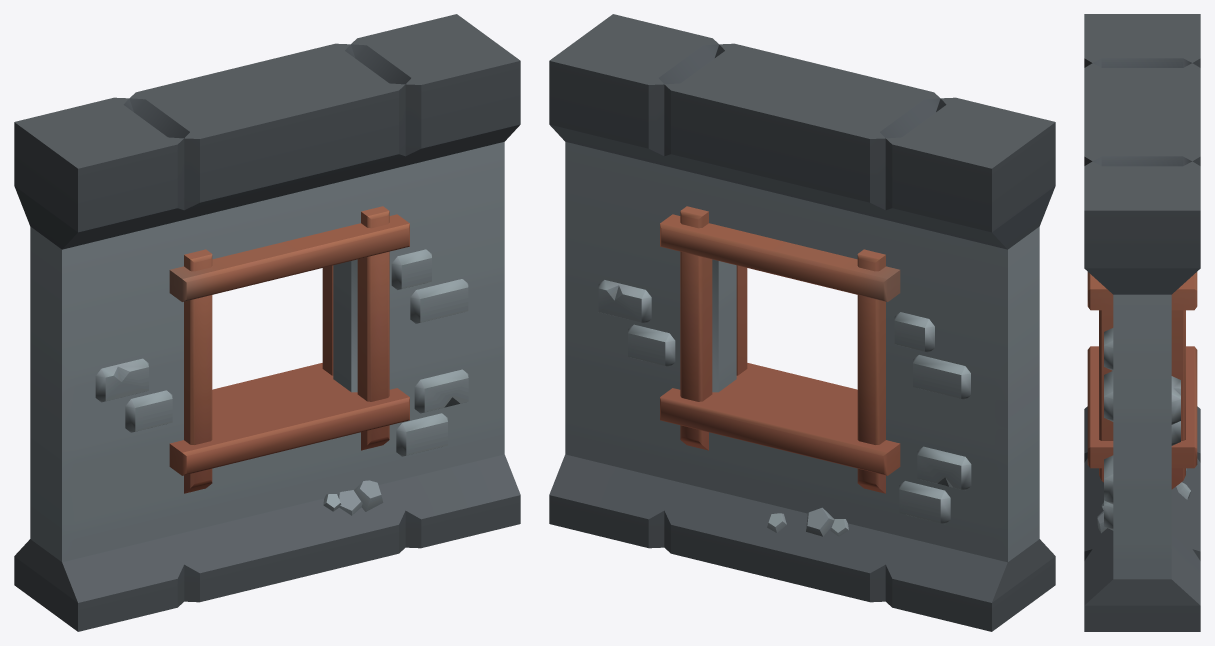
File: wall_window_open.glb
The picture shows the model from 3 angles, left to right: view 1: azimuth 30°, elevation 25°; view 2: azimuth 150°, elevation 25°; view 3: azimuth 270°, elevation 25°; orthographic projection. The views are drawn at different scales.
Parts seen in each view (by area): view 1: wall_window_open; view 2: wall_window_open; view 3: wall_window_open.
Part boxes in pixels (<box>): wall_window_open: <box>14,14,520,631</box>; wall_window_open: <box>549,14,1055,631</box>; wall_window_open: <box>1084,14,1200,631</box>.
Bounding box in the file's own units: 4 × 4 × 1.
Materials: 1 (1 with a texture image).
